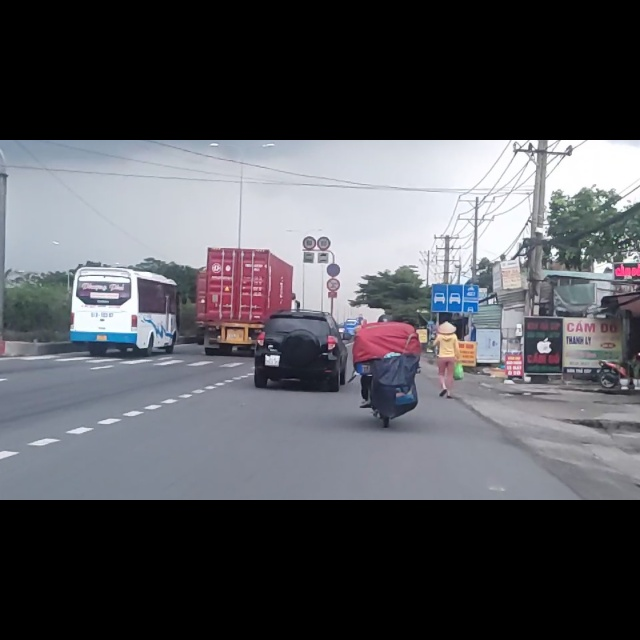bien_cam: (431, 255, 479, 309), (325, 218, 341, 243), (317, 172, 331, 196), (303, 172, 316, 196), (327, 247, 340, 269)
